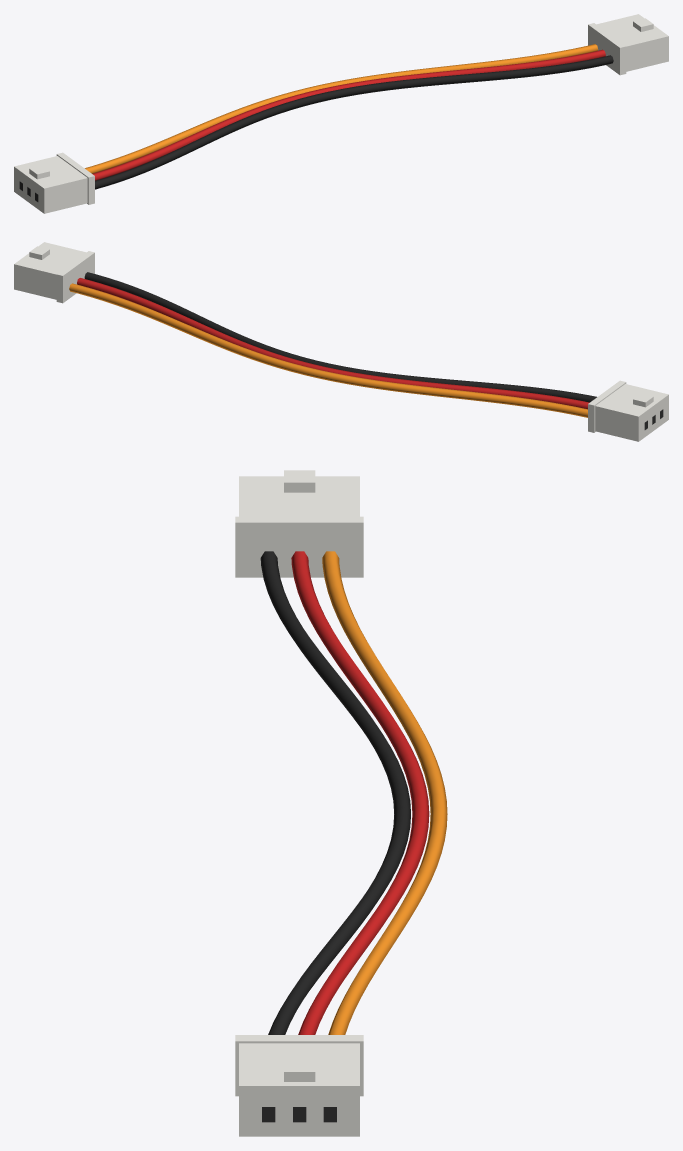
Rendered from jst3.glb.
3 renders of one model, top to bottom at view 1: azimuth 30°, elevation 25°; view 2: azimuth 150°, elevation 25°; view 3: azimuth 270°, elevation 25°, orthographic. The views are drawn at different scales.
Parts seen in each view (by area): view 1: jst3, jst3_plug_a, jst3_plug_b; view 2: jst3, jst3_plug_a, jst3_plug_b; view 3: jst3, jst3_plug_b, jst3_plug_a.
Boxes of the visible parts, x1,y1,x2,y2 form: jst3: (85,44,613,189); jst3_plug_a: (14,152,94,213); jst3_plug_b: (588,14,668,75); jst3: (69,272,596,417); jst3_plug_a: (588,380,668,441); jst3_plug_b: (14,242,94,303); jst3: (260,551,447,1034); jst3_plug_b: (235,1035,363,1136); jst3_plug_a: (235,470,363,577).
Size of the model in its own units: 0.1191 by 0.0057 by 0.0175.
